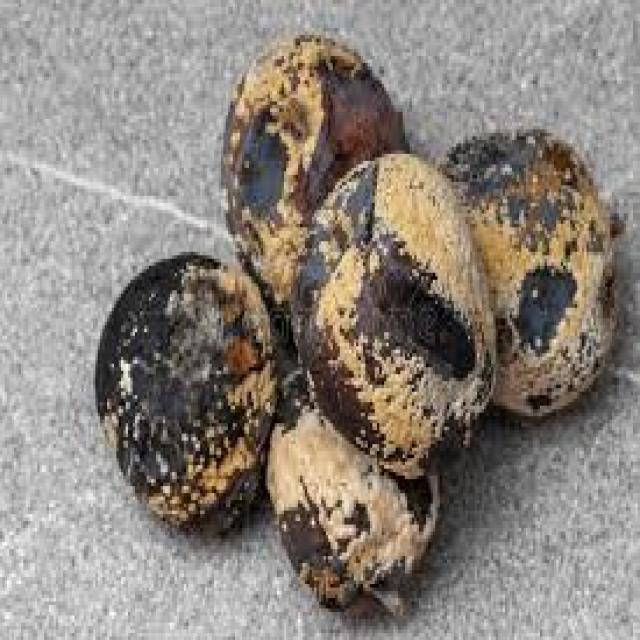organic waste: (291, 143, 491, 476), (221, 31, 405, 329), (440, 126, 621, 423), (91, 248, 277, 528), (263, 370, 444, 616)
